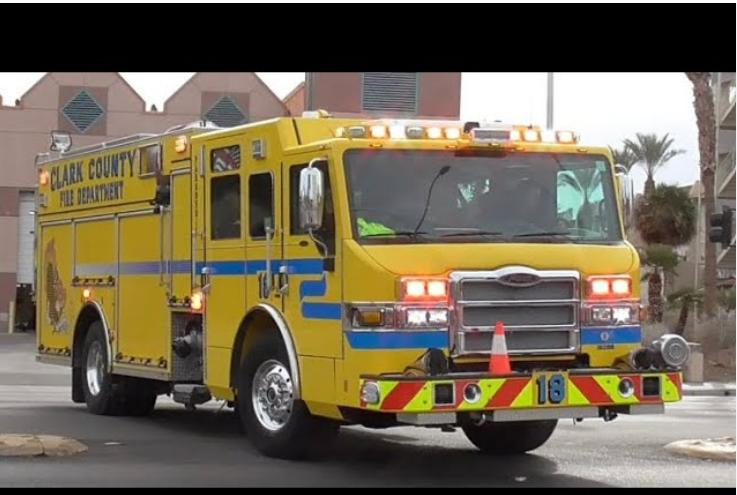firetruck_on: (37, 112, 686, 454)
